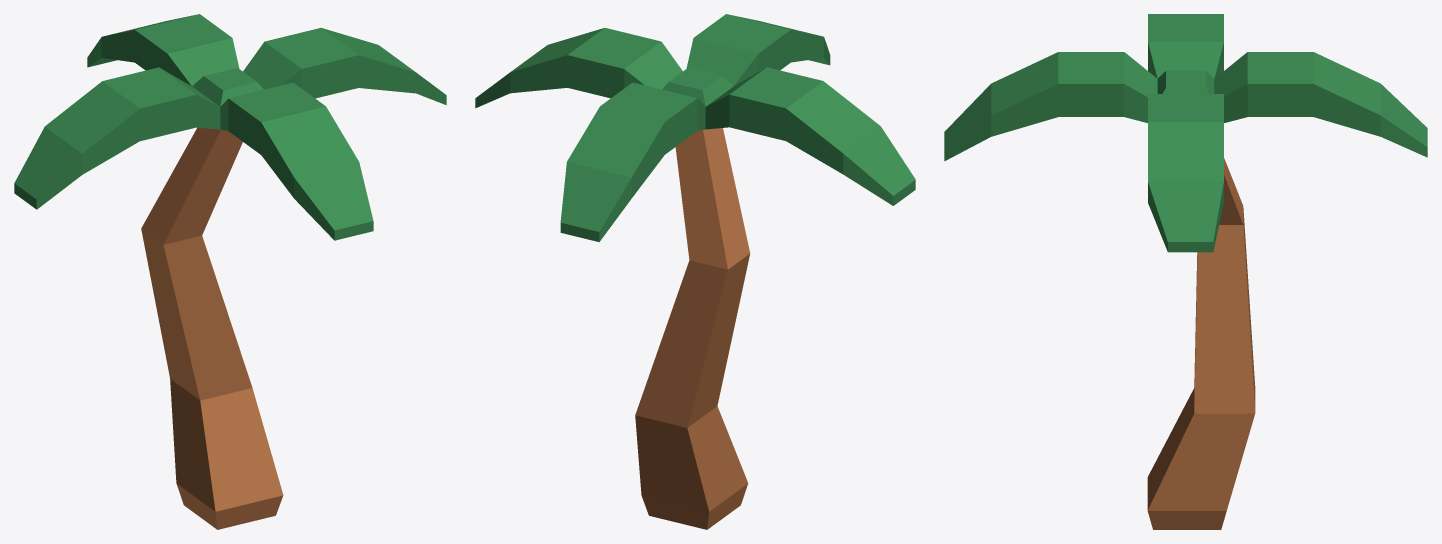
The model's file is palm_short.glb.
3 renders of one model, left to right at view 1: azimuth 30°, elevation 25°; view 2: azimuth 150°, elevation 25°; view 3: azimuth 270°, elevation 25°, orthographic.
Parts seen in each view (by area): view 1: Group 25, Group 23; view 2: Group 25, Group 23; view 3: Group 25, Group 23.
Part boxes in pixels (x1,y1,x2,y2): Group 25: (14,14,446,240); Group 23: (141,127,283,529); Group 25: (475,14,915,242); Group 23: (635,128,750,529); Group 25: (944,14,1427,252); Group 23: (1147,158,1255,529).
Bounding box in the file's own units: 15.44 × 15.76 × 15.44.
